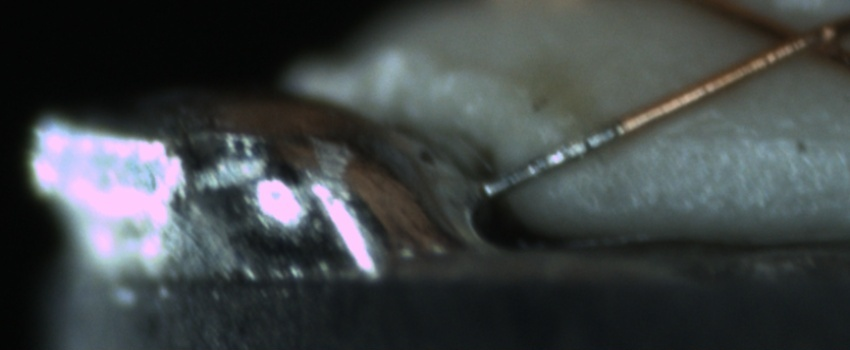CL: (748, 6, 843, 68)
DL: (628, 105, 850, 169)
TS: (482, 123, 625, 199)
